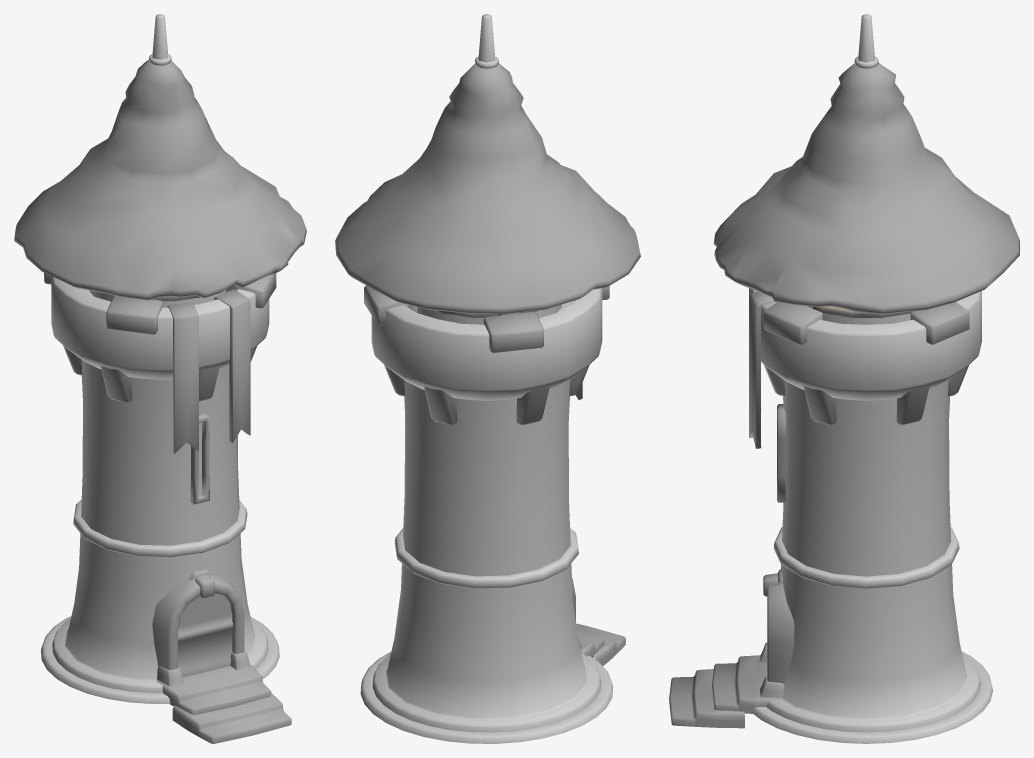
Rendered from TowerMoreMats.fbx.
The picture shows the model from 3 angles, left to right: view 1: azimuth 30°, elevation 25°; view 2: azimuth 150°, elevation 25°; view 3: azimuth 270°, elevation 25°; orthographic projection. The views are drawn at different scales.
Visible parts, largest first — view 1: Cylinder021; view 2: Cylinder021; view 3: Cylinder021.
Boxes of the visible parts, x1=… form: Cylinder021: x1=14, y1=14, x2=306, y2=743; Cylinder021: x1=335, y1=14, x2=640, y2=743; Cylinder021: x1=669, y1=14, x2=1019, y2=743.
Size of the model in its own units: 770 by 1909 by 880.
